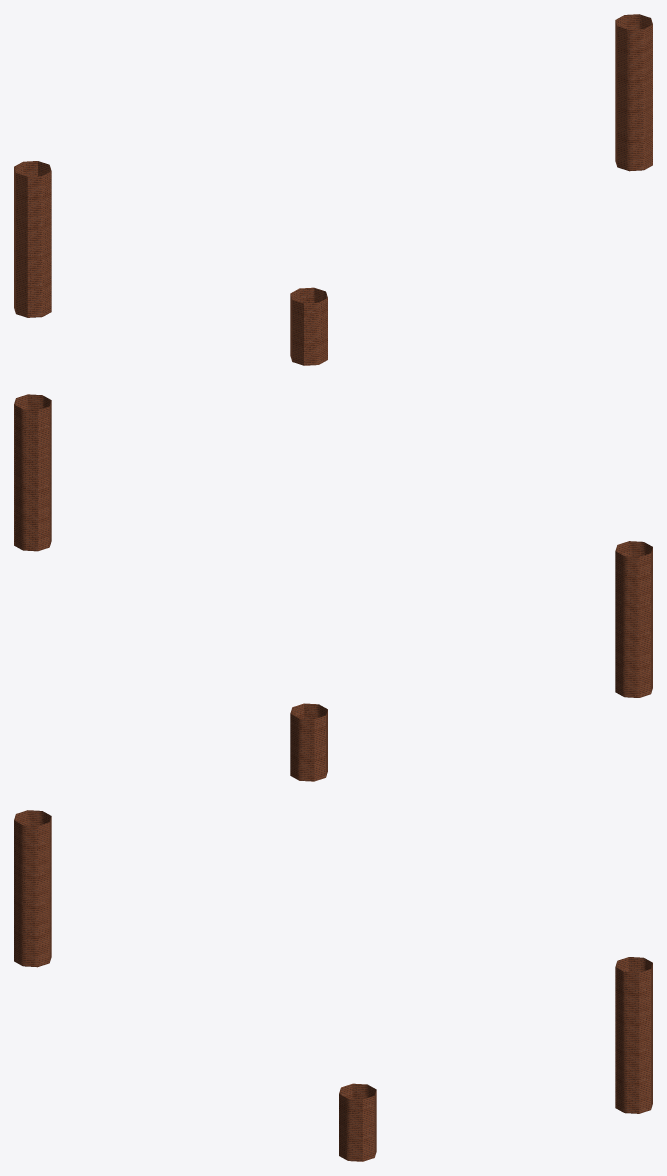
The model's file is Blks_-_Metal_-_Steel.obj.
3 views of the same model, one above another, from view 1: azimuth 30°, elevation 25°; view 2: azimuth 150°, elevation 25°; view 3: azimuth 330°, elevation 25° (orthographic).
Bounding box in the file's own units: 0.565 × 0.2382 × 0.0675.
1 material, 1 textured.
